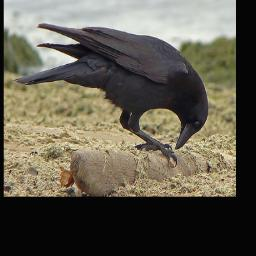Crow: (13, 23, 209, 168)
